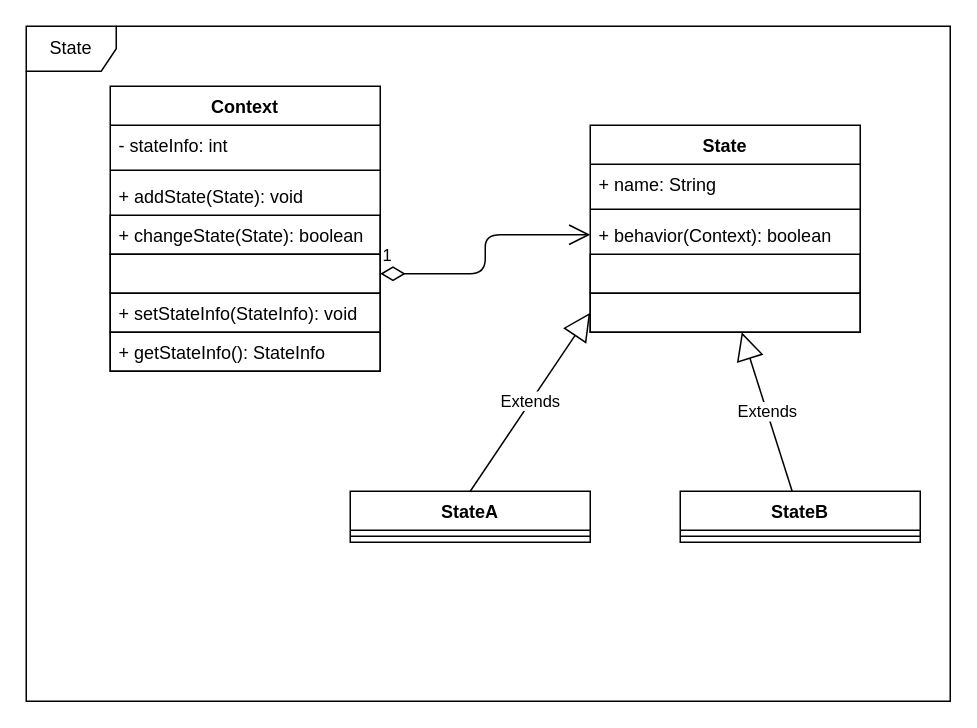
This 977x728 diagram has some shape labels left out. Here are the shapes that lost their labels. From the top down, the centre of each, then its label:
the point at 244,273: + getState(): State
the point at 724,273: + isMatch(StateInfo): void
the point at 724,312: + getName(): String
